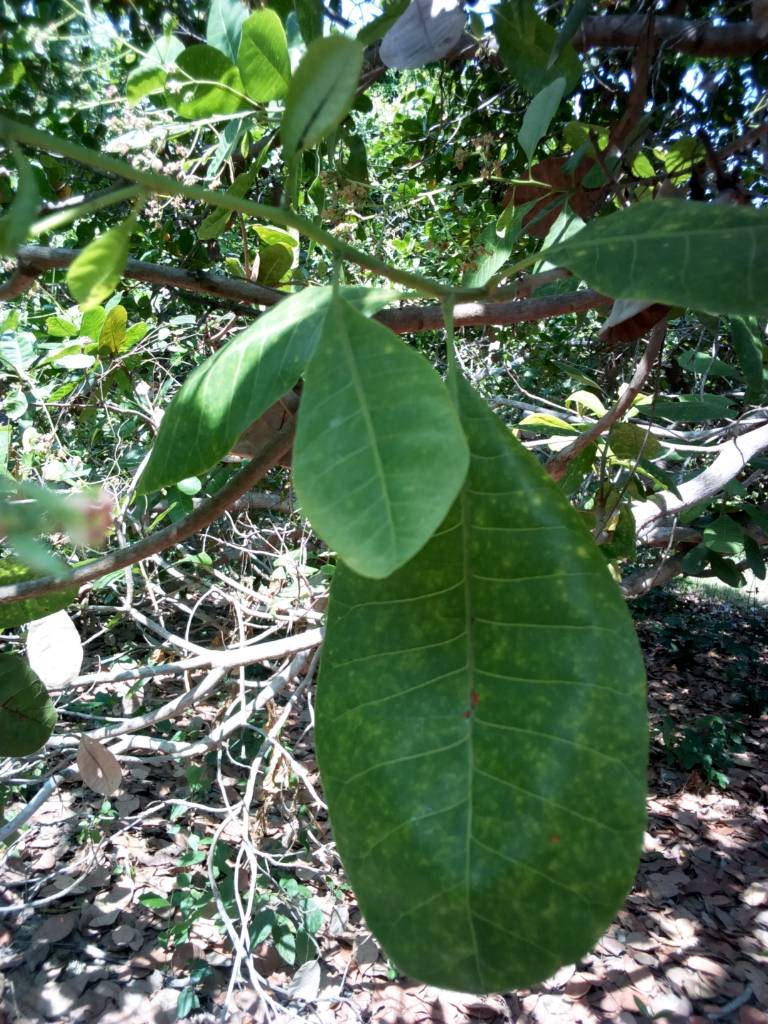Alternariose: (315, 375, 649, 996), (558, 208, 763, 317)
